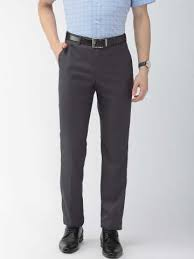F_belt: (58, 27, 133, 54)
F_dress pants: (57, 43, 138, 236)
